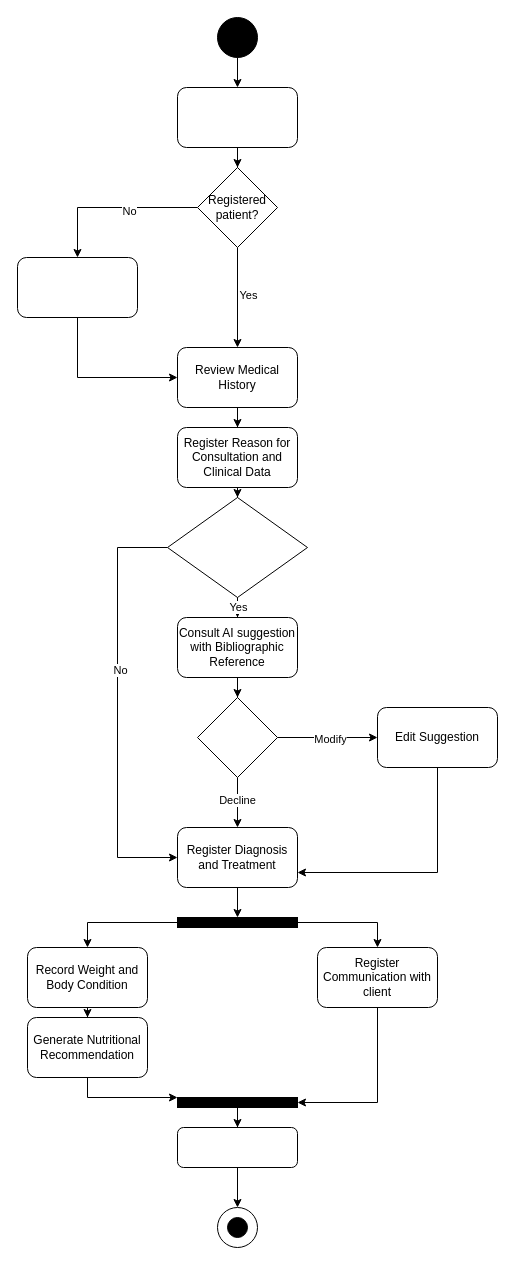
Image size: 515x1265. Some labels were removed from this diagram. The box of each missing label's shape, as (x1, y1, x2, y2) in pixels:
Do you require AI diagnostic support?: (166, 496, 308, 598)
Register New Patient: (16, 256, 138, 318)
Search Patient by Name/Owner: (176, 86, 298, 148)
Veterinarian decides: (196, 696, 278, 778)
